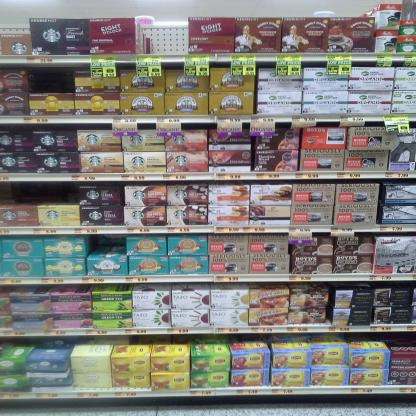Void: (142, 17, 192, 55), (10, 184, 82, 202), (32, 68, 71, 94), (93, 236, 122, 254), (390, 332, 414, 346)
